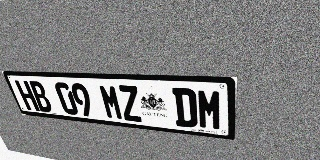0: (53, 82, 79, 115)
9: (69, 83, 95, 117)
B: (28, 81, 54, 113)
D: (172, 88, 198, 128)
H: (14, 80, 40, 111)
M: (197, 89, 222, 131), (98, 84, 124, 120)
Z: (117, 85, 143, 122)
